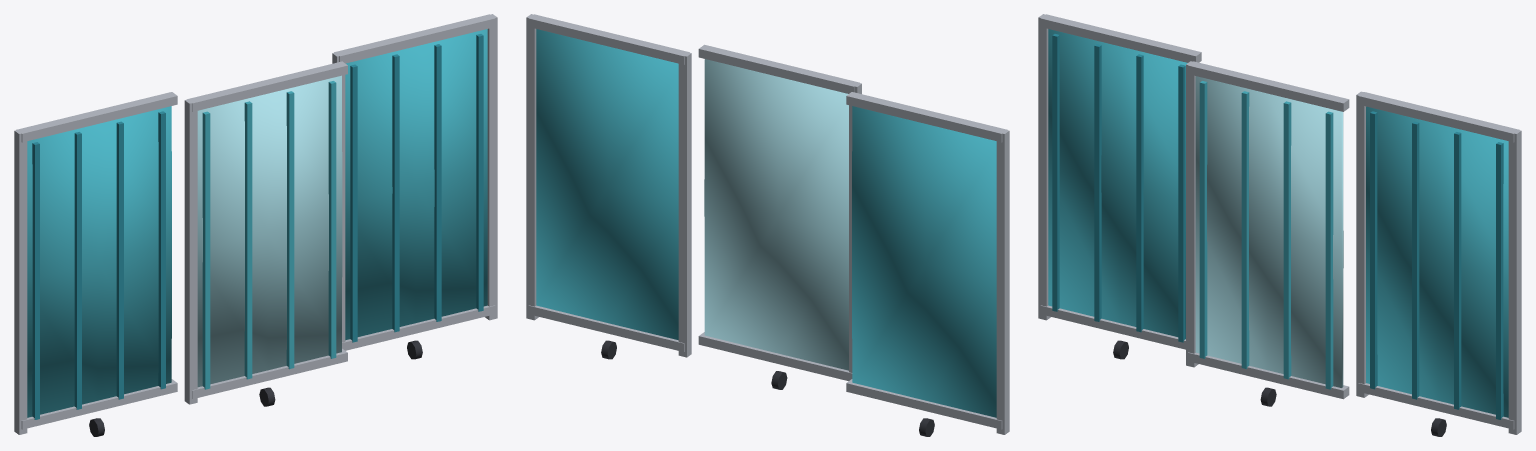
Rendered from curtain_screen.glb.
3 renders of one model, left to right at view 1: azimuth 30°, elevation 25°; view 2: azimuth 150°, elevation 25°; view 3: azimuth 330°, elevation 25°, orthographic.
Parts seen in each view (by area): view 1: root; view 2: root; view 3: root.
Part boxes in pixels (bbox=[...]): root: bbox=[14, 14, 497, 436]; root: bbox=[526, 14, 1009, 436]; root: bbox=[1038, 14, 1521, 436].
Size of the model in its own units: 2.91 by 1.88 by 0.22.
